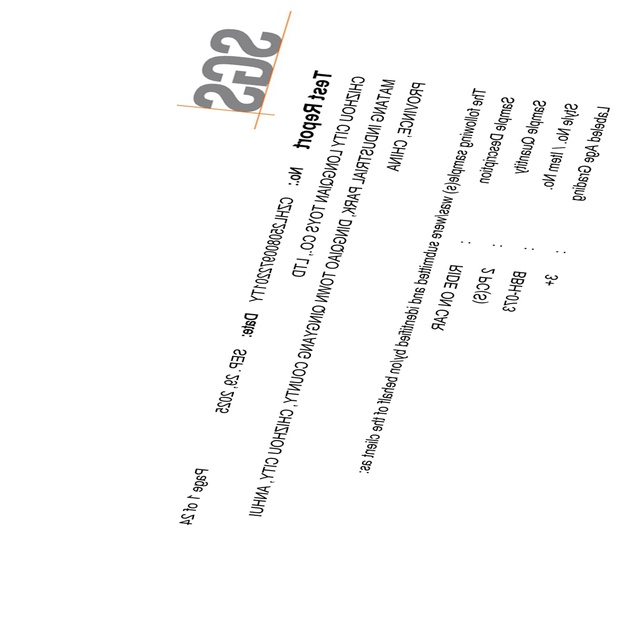sgs: (193, 29, 281, 112)
